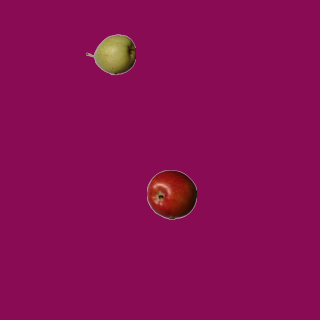Apple Braeburn: (146, 169, 196, 219)
Pear: (85, 29, 135, 79)
